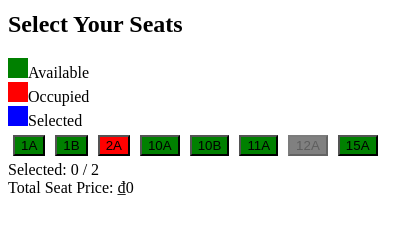
Test: TC-TRV-SEAT: Traveler Seat Selection Tests › TC-TRV-SEAT-005: should update price to business class fare when selecting business seat
Expected: the text with test id "total-seat-price" reads "Total Seat Price: ₫0", [8,179,134,196]
# Select seat in Biz row (1-5), seat 1A
Click the button with test id "seat-1A". click: (29, 145)
box: [13,135,45,156]
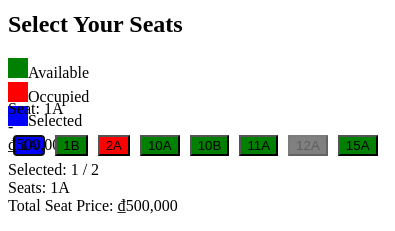
Expected: the text with test id "total-seat-price" reads "Total Seat Price: ₫500,000", [8,197,178,214]
Expected: the text with test id "selected-list" reads "Seats: 1A", [8,179,70,196]
